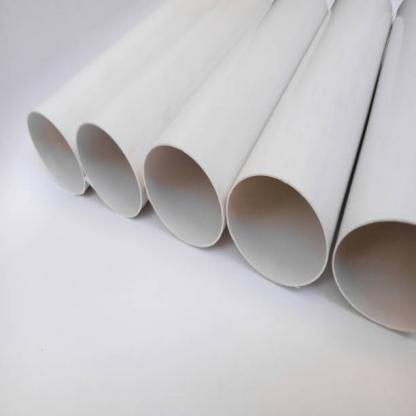pipe: (226, 174, 327, 287), (330, 219, 416, 333), (144, 144, 224, 248), (76, 122, 142, 218), (28, 110, 86, 195)
